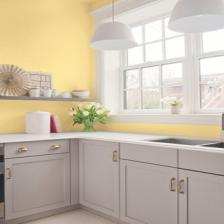yellow: (0, 0, 110, 97), (1, 0, 110, 96), (0, 100, 81, 133), (99, 123, 220, 138)
